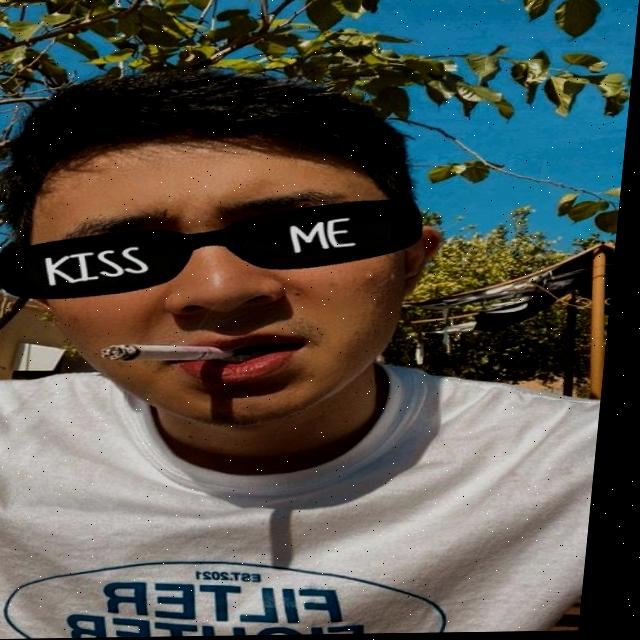cigarette: (108, 342, 240, 363)
